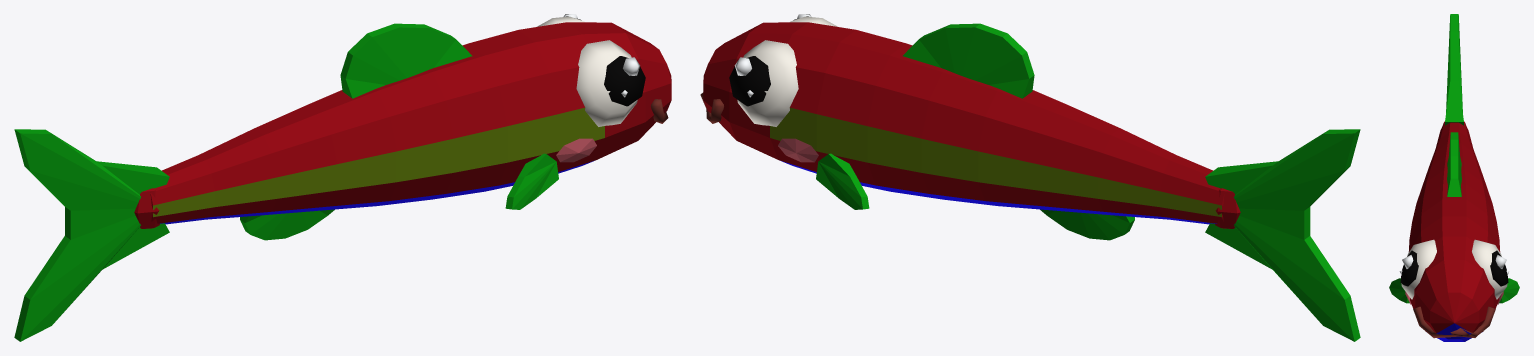
File: fish-slim.glb
3 renders of one model, left to right at view 1: azimuth 30°, elevation 25°; view 2: azimuth 150°, elevation 25°; view 3: azimuth 270°, elevation 25°, orthographic. The views are drawn at different scales.
Visible parts, largest first — view 1: body, tail; view 2: body, tail; view 3: body, tail.
Boxes of the visible parts, x1,y1,x2,y2 form: body: (150,14,671,240); tail: (14,129,169,341); body: (700,14,1224,240); tail: (1205,129,1360,341); body: (1389,122,1519,341); tail: (1442,14,1466,125).
Bounding box in the file's own units: 0.9848 × 0.3189 × 0.2337.
